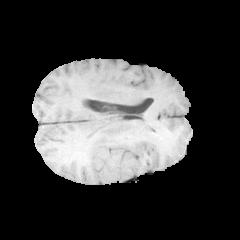glioma: (85, 114, 138, 173)
